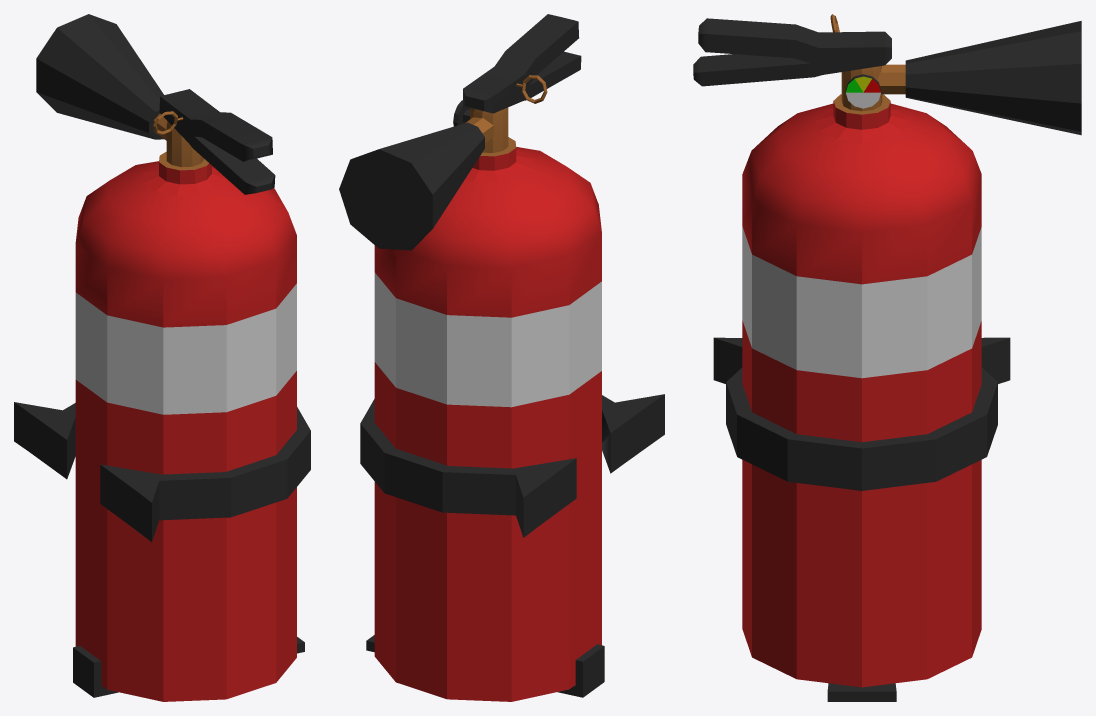
File: extinguisher.glb
3 renders of one model, left to right at view 1: azimuth 30°, elevation 25°; view 2: azimuth 150°, elevation 25°; view 3: azimuth 270°, elevation 25°, orthographic. The views are drawn at different scales.
Visible parts, largest first — view 1: extinguisher; view 2: extinguisher; view 3: extinguisher.
Boxes of the visible parts, <box> form: extinguisher: <box>14,14,310,701</box>; extinguisher: <box>339,14,664,701</box>; extinguisher: <box>693,14,1081,701</box>.
Bounding box in the file's own units: 0.1912 × 0.5 × 0.2834.
